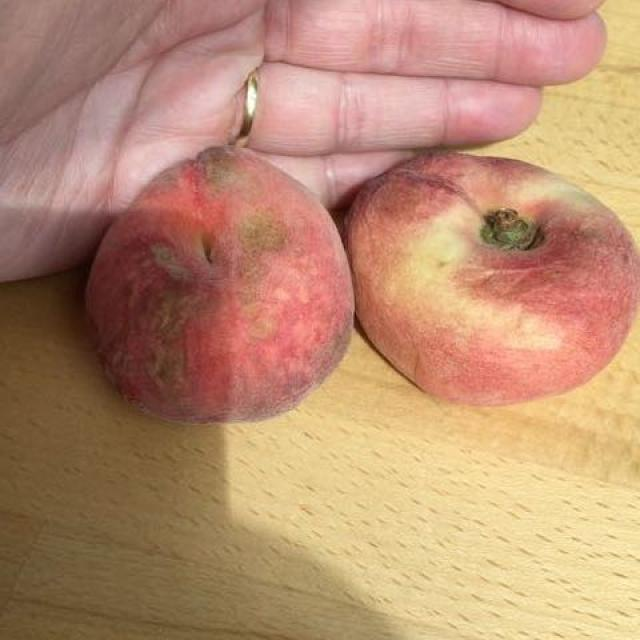peach: (97, 149, 631, 443)
